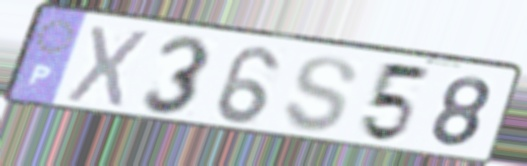3: (140, 34, 216, 119)
5: (359, 58, 433, 146)
6: (210, 42, 283, 127)
8: (429, 75, 494, 149)
S: (280, 54, 360, 135)
X: (62, 22, 154, 112)
